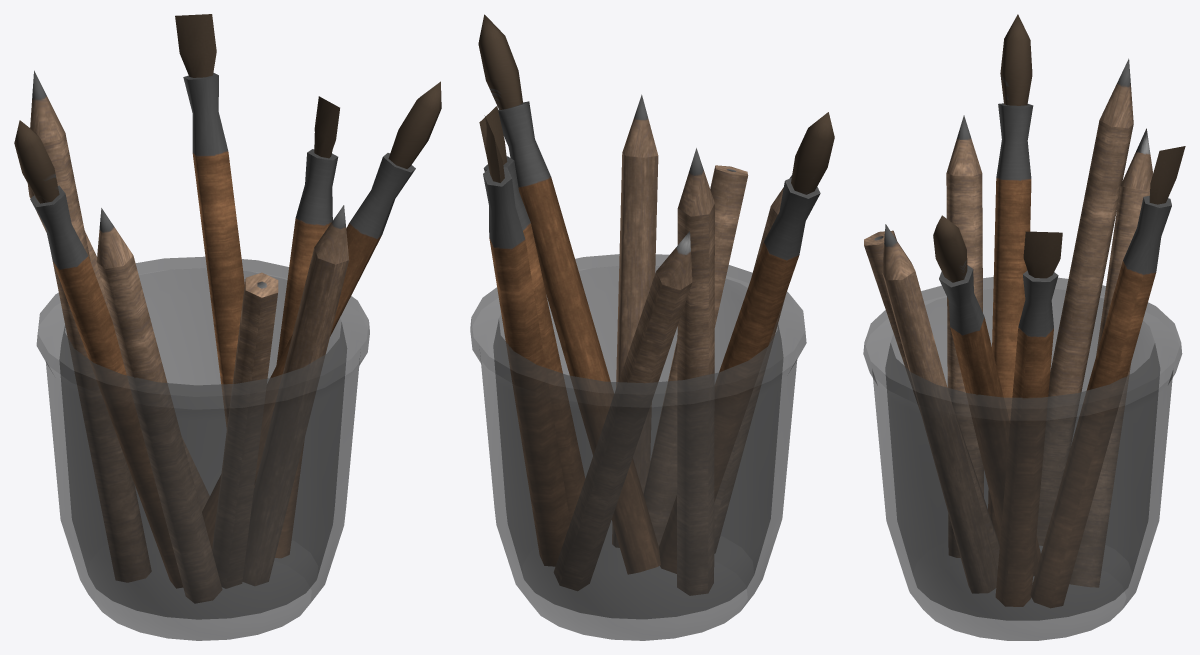
The model's file is pencil_holder_with_pencils_and_paintbrushes.glb.
3 views of the same model, side by side, from view 1: azimuth 30°, elevation 25°; view 2: azimuth 150°, elevation 25°; view 3: azimuth 270°, elevation 25° (orthographic). The views are drawn at different scales.
Visible parts, largest first — view 1: Circle; view 2: Circle; view 3: Circle.
Part boxes in pixels (x1,y1,x2,y2): Circle: (14, 14, 441, 640); Circle: (470, 14, 834, 640); Circle: (863, 14, 1185, 640).
Size of the model in its own units: 0.1924 by 0.249 by 0.1463.
Materials: 1 (1 with a texture image).
